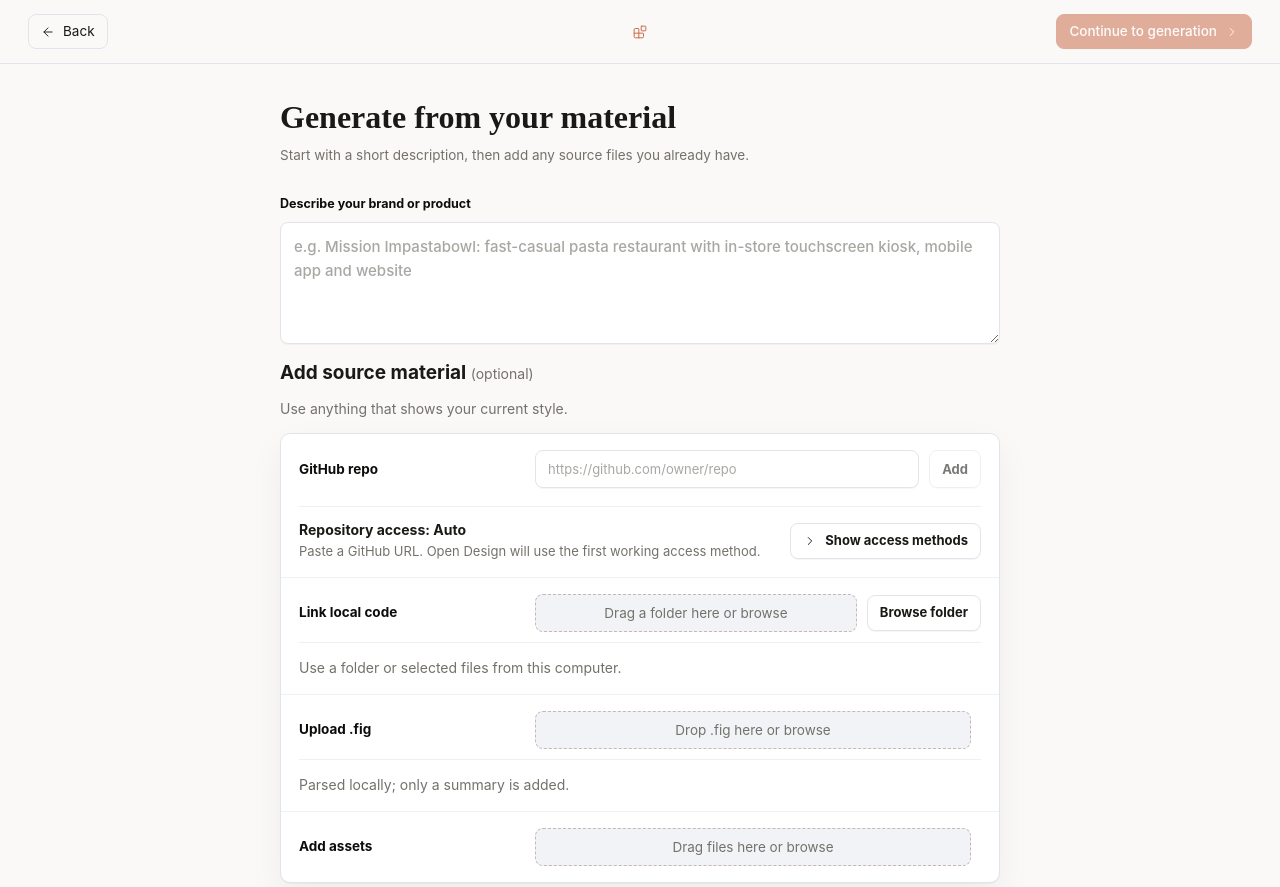
it: DesignSystemCreationFlow › surfaces GitHub connector status errors from the connector status endpoint
Click the button "Show access methods".
click(886, 541)  # box [790,523,981,559]
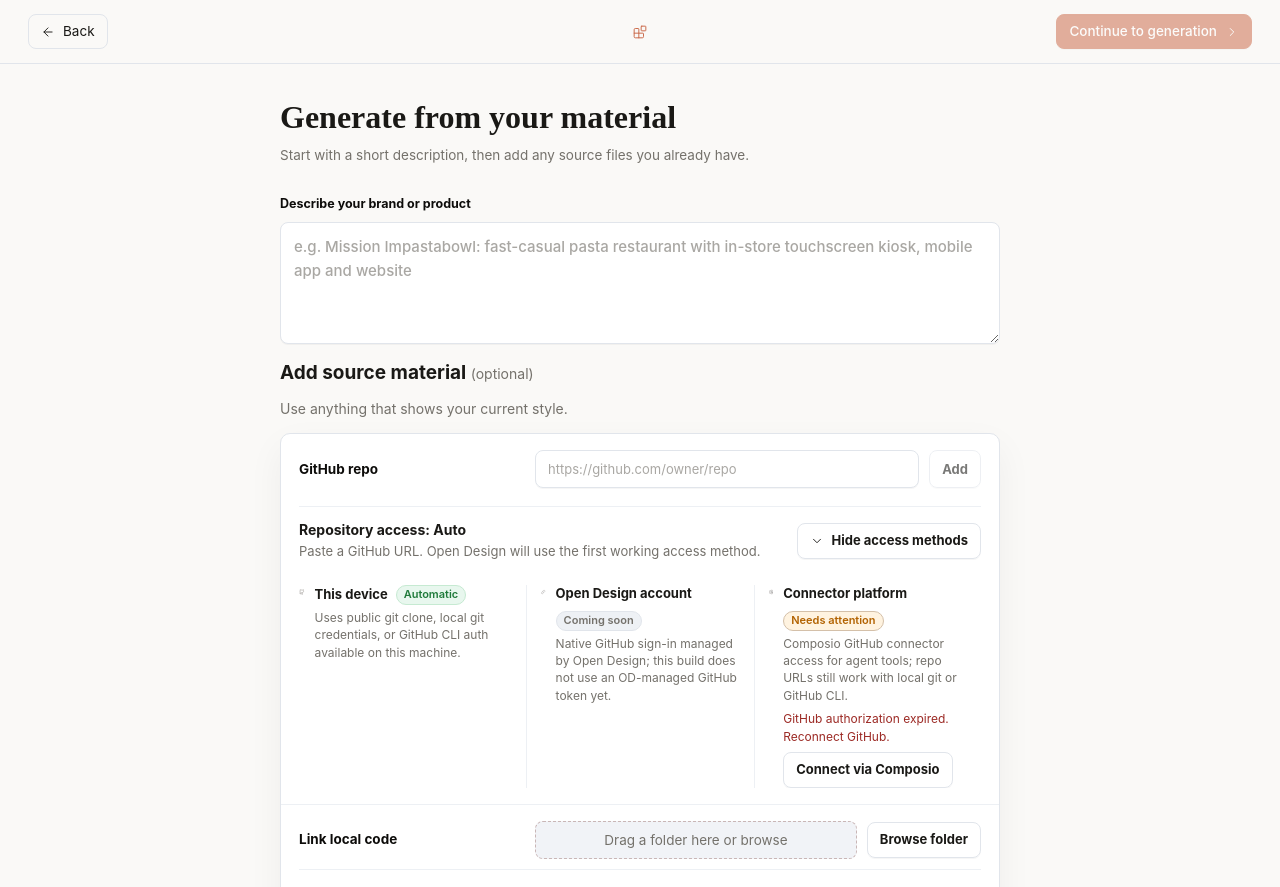
Expected: the text "Needs attention" is shown, [783,611,884,631]
Expected: the text "GitHub authorization expired. Reconnect GitHub." is shown, [783,710,967,746]
Expected: the button "Connect via Composio" is shown, [783,752,953,788]
